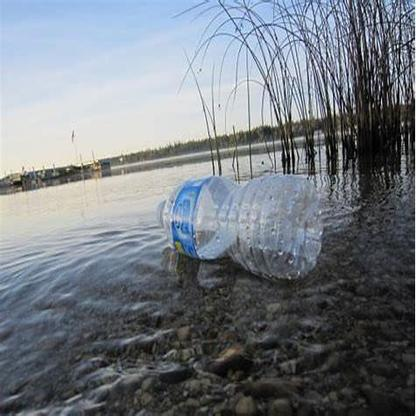plastic bottle: (156, 175, 322, 278)
